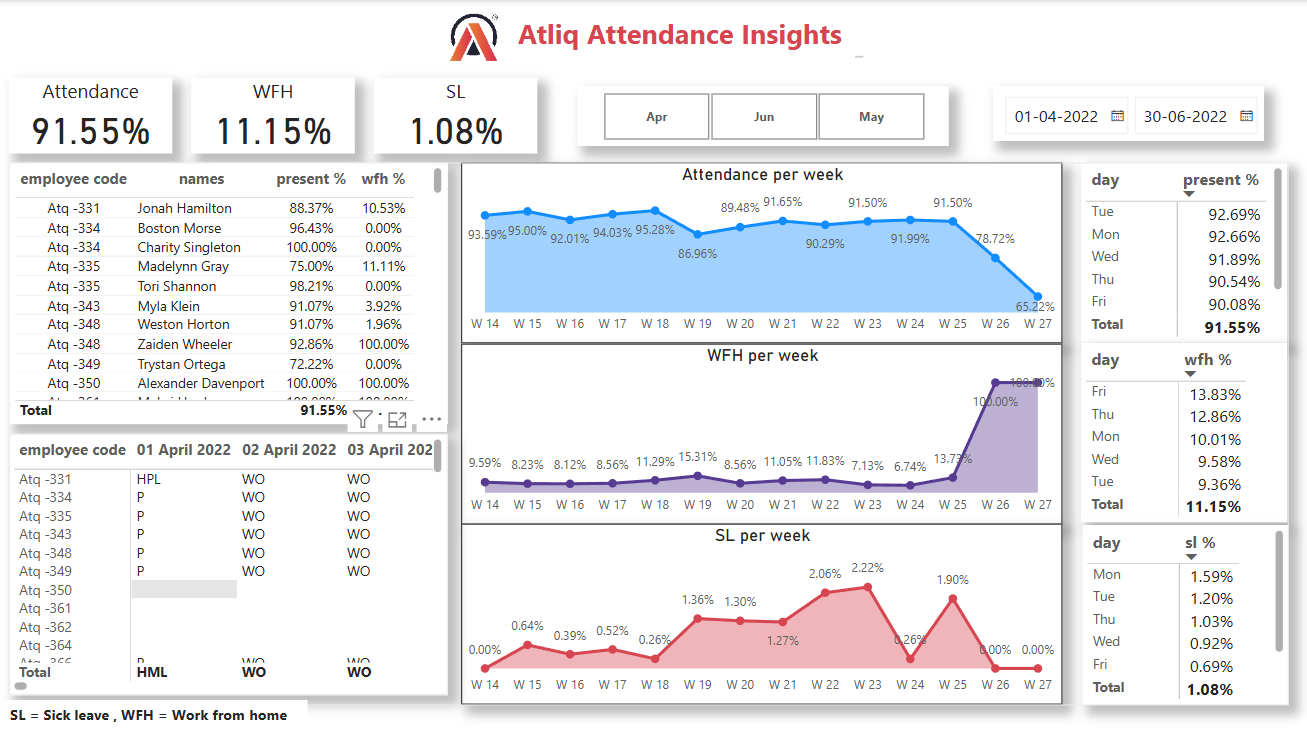

The page's visual inventory and layout, read from the dashboard file:
{"tool":"powerbi","page":{"name":"Page 1","canvas":[1280,720],"ordinal":0},"visuals":[{"type":"textbox","title":"Atliq Attendance Insights","box":[481.2,14.6,369.3,46.5],"z":0,"group":"g4"},{"type":"card","title":"Attendance","fields":{"Values":["measures (3).present %"]},"box":[8.6,75.8,160,74.2],"z":0,"group":"g2"},{"type":"tableEx","fields":{"Values":["Final data.employee code","Final data.names","measures (3).ttl_present %","measures (3).ttl_wfh %"]},"box":[8.6,159,429.2,255.9],"z":0,"group":"g3"},{"type":"lineChart","title":"Attendance per week","fields":{"Category":["Final data.week no"],"Y":["measures (3).present %"]},"box":[451.3,159,588.2,177.1],"z":0,"group":"g1"},{"type":"card","title":"WFH","fields":{"Values":["measures (3).wfh %"]},"box":[187.1,75.8,160.2,74.6],"z":1000,"group":"g2"},{"type":"slicer","fields":{"Values":["Final data.month"]},"box":[564.9,84.4,363.2,58.7],"z":1000},{"type":"group","id":"g1","title":"Group 2","box":[451.3,159,588.2,530.9],"z":1000,"group":"g3"},{"type":"lineChart","title":"WFH per week","fields":{"Category":["Final data.week no"],"Y":["measures (3).wfh %"]},"box":[451.3,335.9,588.2,177.1],"z":1000,"group":"g1"},{"type":"group","id":"g2","title":"Group 1","box":[8.6,75.8,517.3,74.6],"z":2000},{"type":"card","title":"SL","fields":{"Values":["measures (3).sl %"]},"box":[365.7,75.8,160.2,74.6],"z":2000,"group":"g2"},{"type":"pivotTable","fields":{"Rows":["Final data.day"],"Values":["measures (3).present %"]},"box":[1057.8,159,201.8,175.7],"z":2000,"group":"g3"},{"type":"lineChart","title":"SL per week","fields":{"Category":["Final data.week no"],"Y":["measures (3).sl %"]},"box":[451.3,512.8,588.2,177.1],"z":2000,"group":"g1"},{"type":"slicer","fields":{"Values":["Final data.Attribute"]},"box":[970.9,84.4,265.4,53.8],"z":3000},{"type":"pivotTable","fields":{"Rows":["Final data.day"],"Values":["measures (3).wfh %"]},"box":[1057.8,335.4,201.8,175.7],"z":3000,"group":"g3"},{"type":"group","id":"g3","title":"Group 3","box":[8.6,159,1252.2,530.7],"z":4000},{"type":"pivotTable","fields":{"Rows":["Final data.day"],"Values":["measures (3).sl %"]},"box":[1059,514,201.8,175.7],"z":4000,"group":"g3"},{"type":"pivotTable","fields":{"Rows":["Final data.employee code"],"Columns":["Final data.Attribute"],"Values":["Min(Final data.Value)"]},"box":[8.6,423.8,429.2,256.3],"z":5000,"group":"g3"},{"type":"textbox","box":[5,685,295.9,30.6],"z":5000},{"type":"image","box":[429.4,7.3,69.7,58],"z":6000,"group":"g4"},{"type":"group","id":"g4","title":"Group 4","box":[429.4,7.3,421.1,58],"z":6001}]}

Visuals, with their boxes in screenshot pixels (x1, y1, x2, y2), scaled from the page's 1280x720 canvas onto the 1307x734 screenshot:
"Atliq Attendance Insights" textbox: left=491, top=15, right=868, bottom=62
"Attendance" card: left=9, top=77, right=172, bottom=153
tableEx - Final data.employee code x Final data.names: left=9, top=162, right=447, bottom=423
"Attendance per week" lineChart: left=461, top=162, right=1061, bottom=343
"WFH" card: left=191, top=77, right=355, bottom=153
slicer - Final data.month: left=577, top=86, right=948, bottom=146
"Group 2" group: left=461, top=162, right=1061, bottom=703
"WFH per week" lineChart: left=461, top=342, right=1061, bottom=523
"Group 1" group: left=9, top=77, right=537, bottom=153
"SL" card: left=373, top=77, right=537, bottom=153
pivotTable - Final data.day x measures (3).present %: left=1080, top=162, right=1286, bottom=341
"SL per week" lineChart: left=461, top=523, right=1061, bottom=703
slicer - Final data.Attribute: left=991, top=86, right=1262, bottom=141
pivotTable - Final data.day x measures (3).wfh %: left=1080, top=342, right=1286, bottom=521
"Group 3" group: left=9, top=162, right=1287, bottom=703
pivotTable - Final data.day x measures (3).sl %: left=1081, top=524, right=1287, bottom=703
pivotTable - Final data.employee code x Final data.Attribute: left=9, top=432, right=447, bottom=693
textbox: left=5, top=698, right=307, bottom=730
image: left=438, top=7, right=510, bottom=67
"Group 4" group: left=438, top=7, right=868, bottom=67
